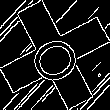O_NE: (22, 24, 88, 86)
